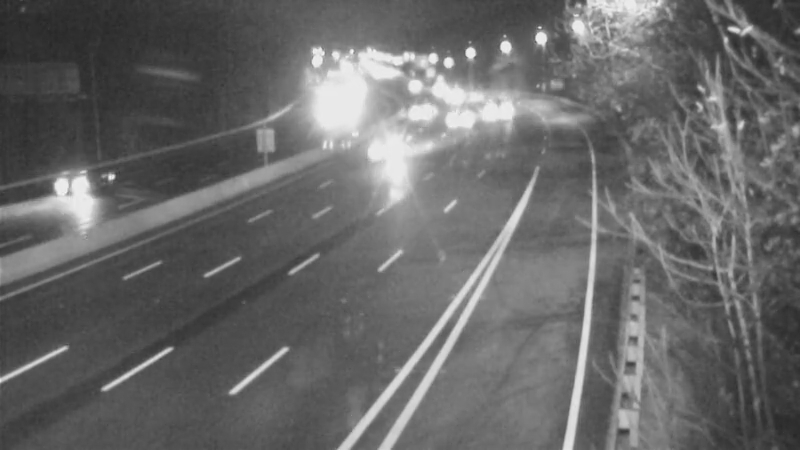vehicle: (27, 150, 107, 230), (387, 59, 437, 109), (394, 85, 444, 135), (470, 87, 520, 137), (433, 89, 483, 139), (362, 121, 412, 171)
